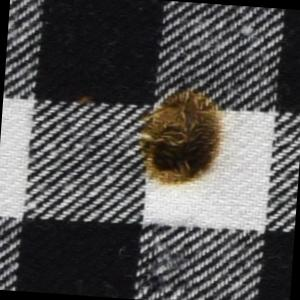Damage: (133, 84, 228, 196)
Stain: (77, 92, 97, 111)
